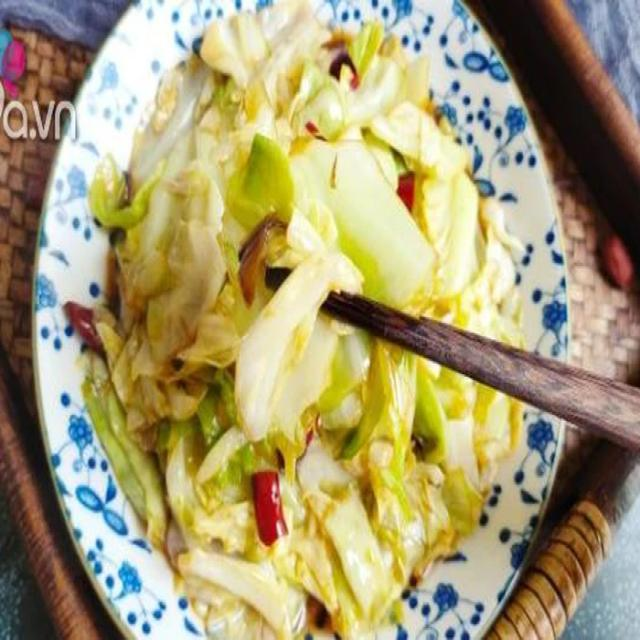bap cai xao: (90, 0, 522, 639)
